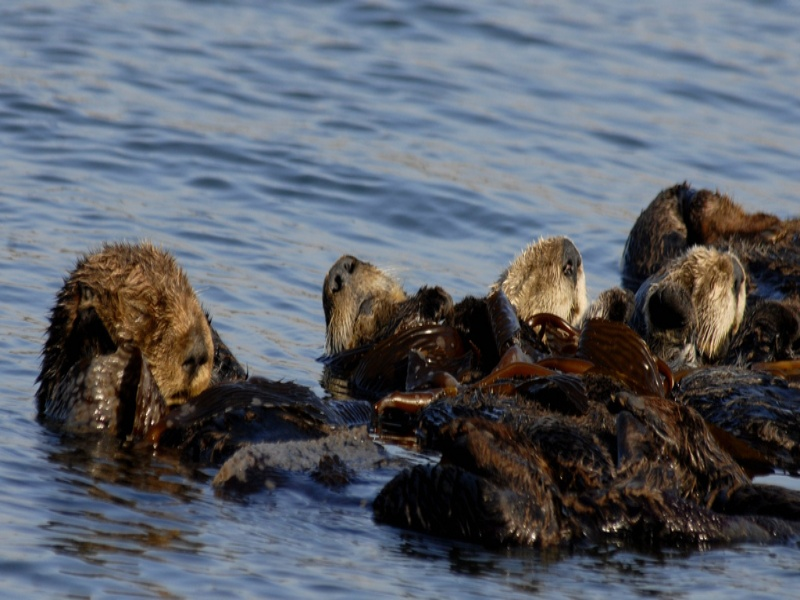minkish: (29, 241, 237, 442), (628, 249, 747, 358), (319, 253, 427, 367), (497, 242, 594, 340)
